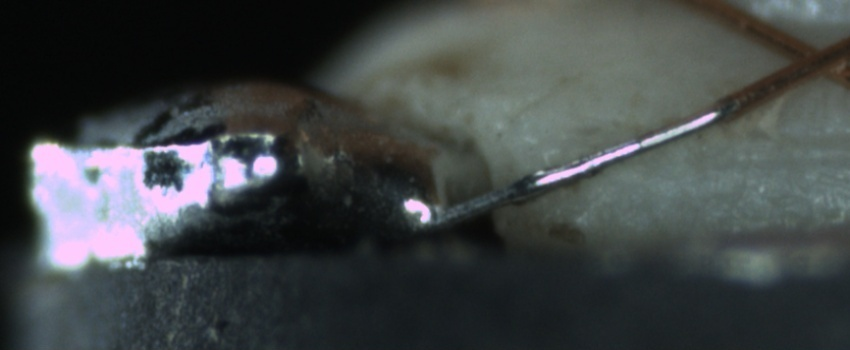CL: (766, 26, 846, 89)
DL: (695, 118, 850, 188)
TS: (416, 98, 719, 231)
TTCW: (407, 67, 785, 234)
